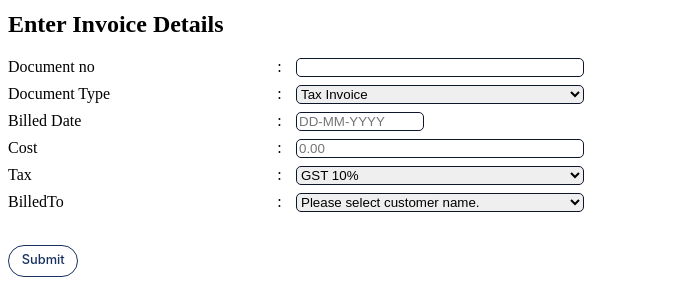
Invoices Component: Form › Renders "Error Message" where date format is correct but has invalid date
Type "INV001" into the field named "docNo". click: (440, 67)
box: [296,58,584,77]
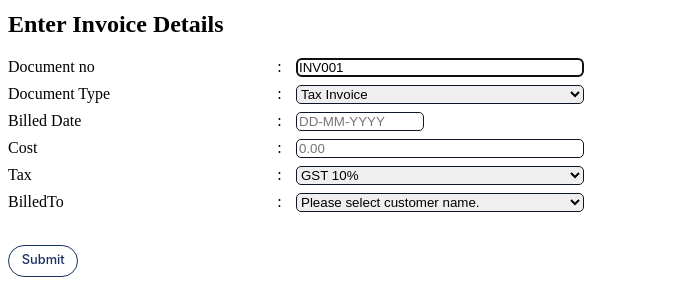
Type "31-04-2020" into the field named "date". click: (360, 122)
box: [296,112,424,131]
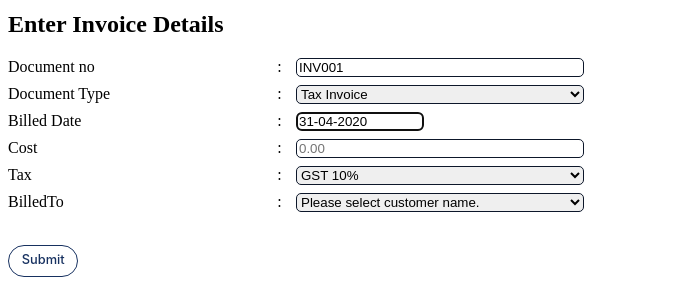
Click the button. click: click(43, 261)
box: [8,245,78,277]
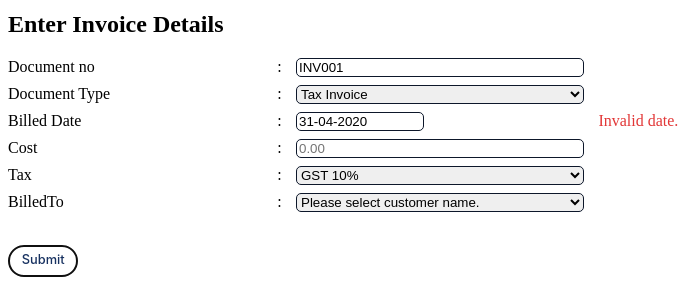
Now the text "Invalid date." is shown, box [598,112,678,129]
